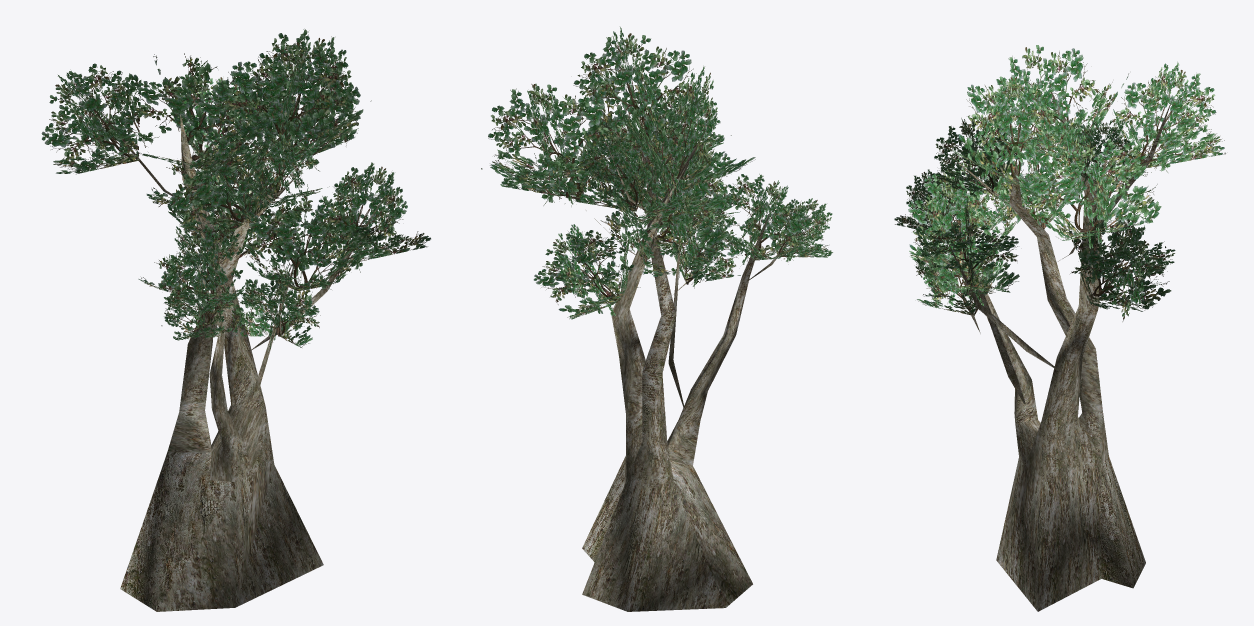
Rendered from decd_hollytreeleaves_a1_l1.fbx.
3 renders of one model, left to right at view 1: azimuth 30°, elevation 25°; view 2: azimuth 150°, elevation 25°; view 3: azimuth 270°, elevation 25°, orthographic. The views are drawn at different scales.
Parts seen in each view (by area): view 1: mesh_node; view 2: mesh_node; view 3: mesh_node.
Part boxes in pixels (x1,y1,x2,y2): mesh_node: (41,29,430,611); mesh_node: (481,27,832,611); mesh_node: (894,45,1225,611).
Size of the model in its own units: 10.29 by 17.32 by 10.91.
